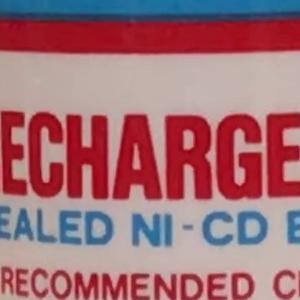keyword: (122, 201, 278, 287)
